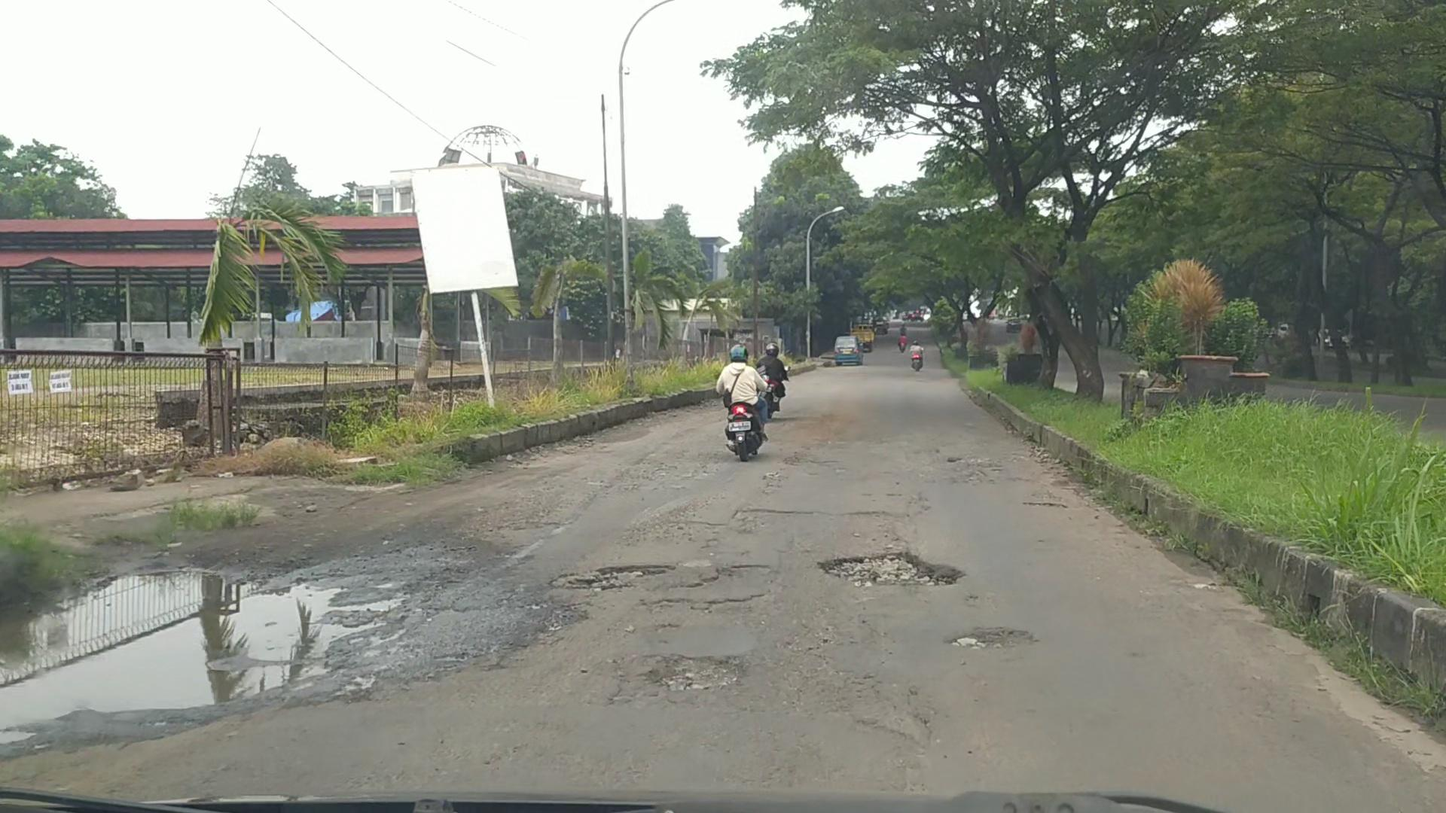pothole: (6, 551, 407, 739), (819, 546, 958, 587), (643, 652, 744, 692), (948, 621, 1029, 652), (571, 565, 664, 592)
